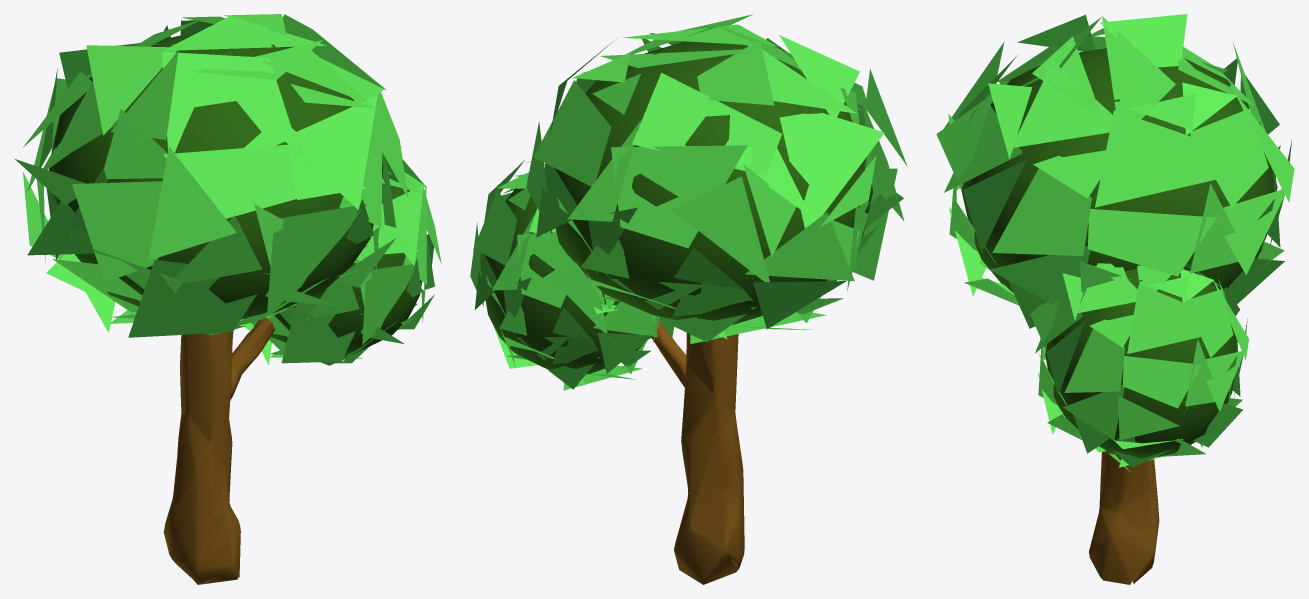
File: ArbolDEFDEF3.fbx
3 renders of one model, left to right at view 1: azimuth 30°, elevation 25°; view 2: azimuth 150°, elevation 25°; view 3: azimuth 270°, elevation 25°, orthographic. The views are drawn at different scales.
Visible parts, largest first — view 1: ArbolDef3, Object003; view 2: ArbolDef3, Object003; view 3: ArbolDef3, Object003.
Boxes of the visible parts, x1,y1,x2,y2 form: ArbolDef3: (15,14,441,365); Object003: (163,317,275,584); ArbolDef3: (470,14,907,390); Object003: (651,321,744,584); ArbolDef3: (936,14,1294,471); Object003: (1089,451,1159,584).
Bounding box in the file's own units: 292 × 400 × 244.
